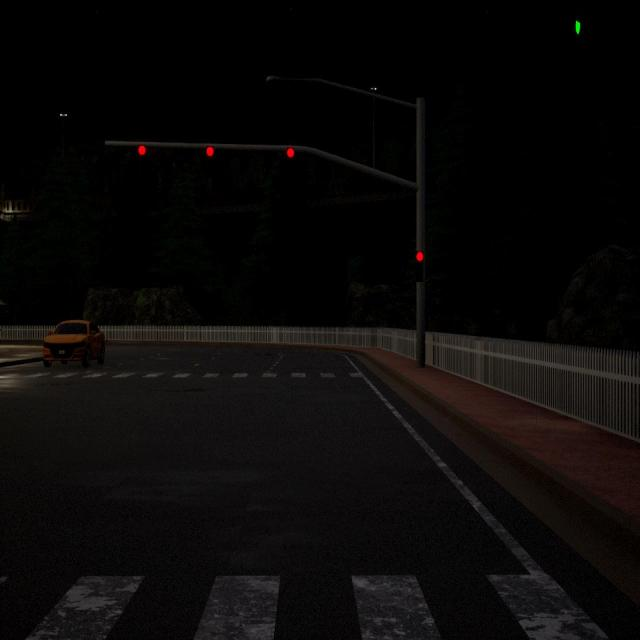Vehicle: (43, 321, 105, 366)
traffic_light: (414, 250, 424, 282), (138, 144, 146, 157), (286, 147, 295, 158), (206, 146, 214, 157)
